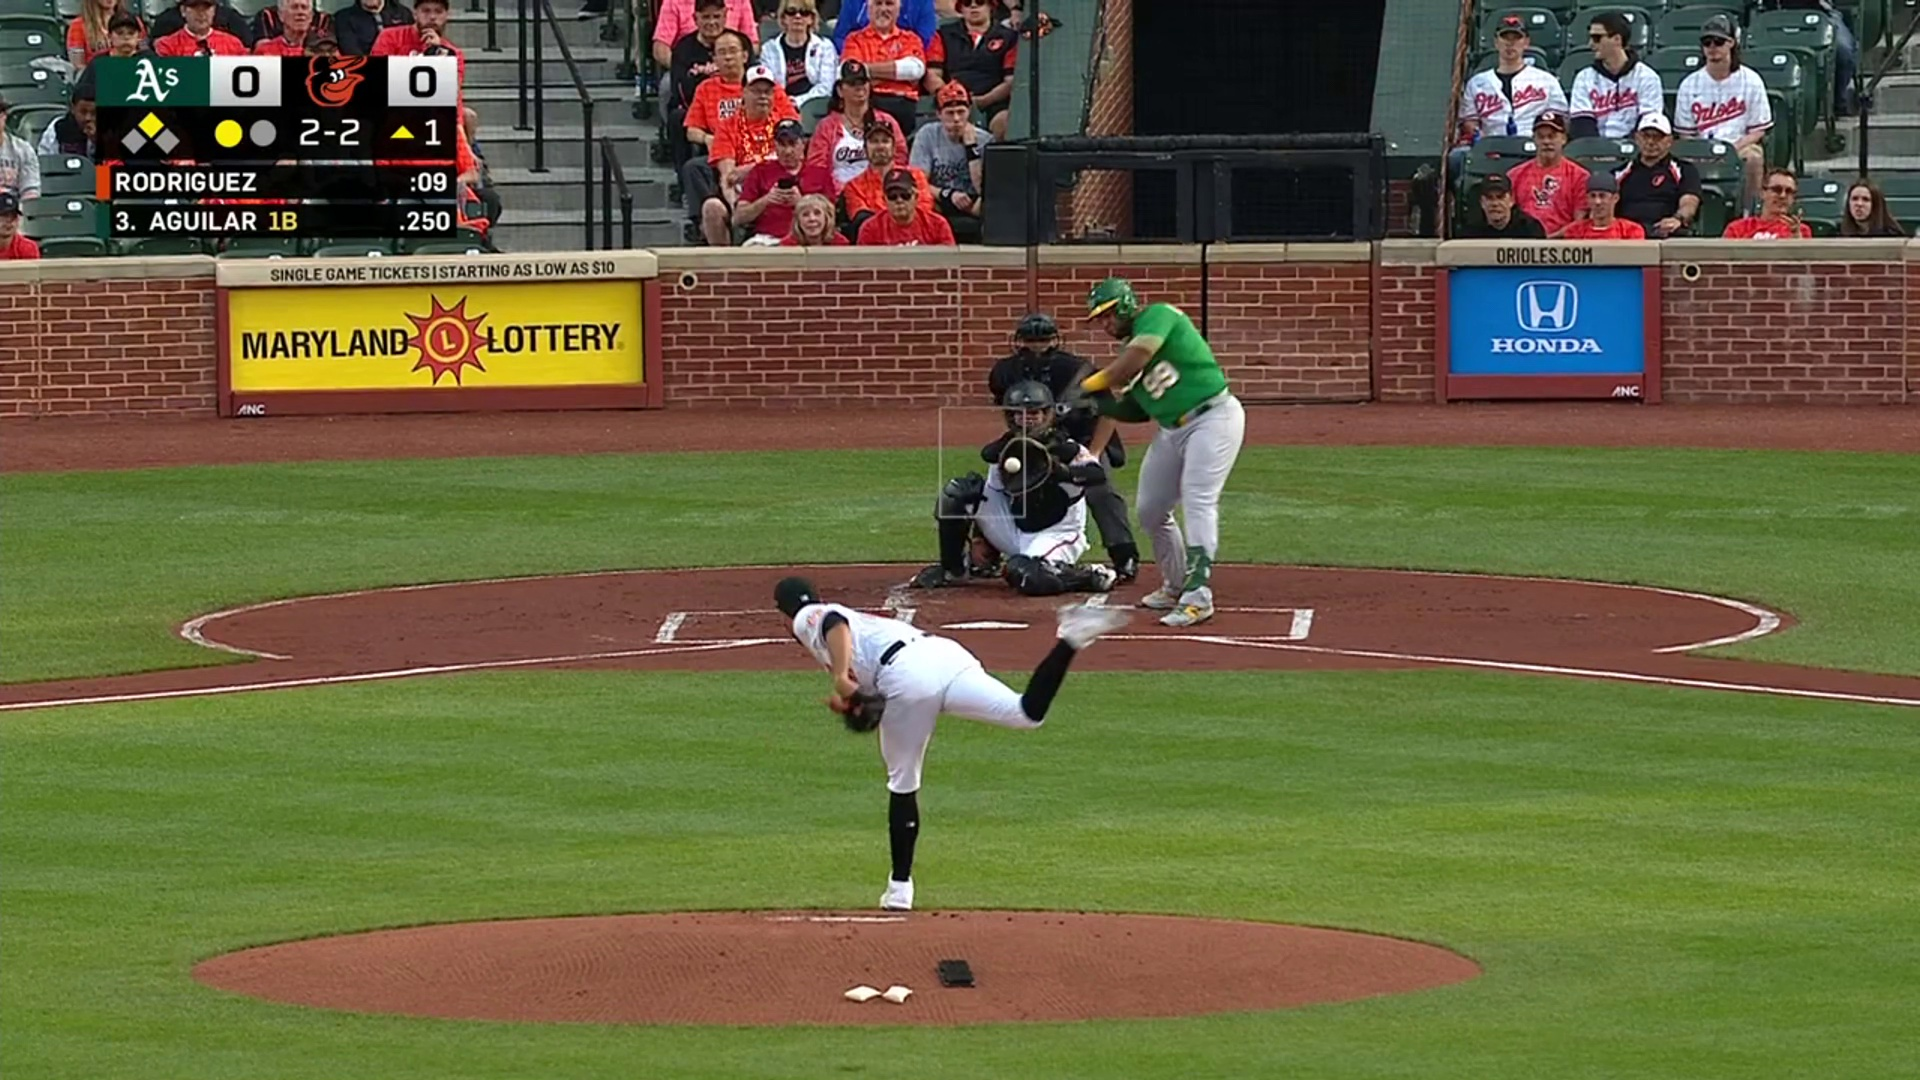baseball: (1004, 456, 1021, 473)
